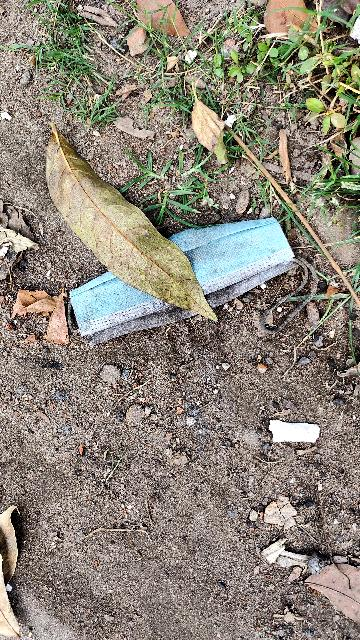mask: (74, 230, 298, 337)
